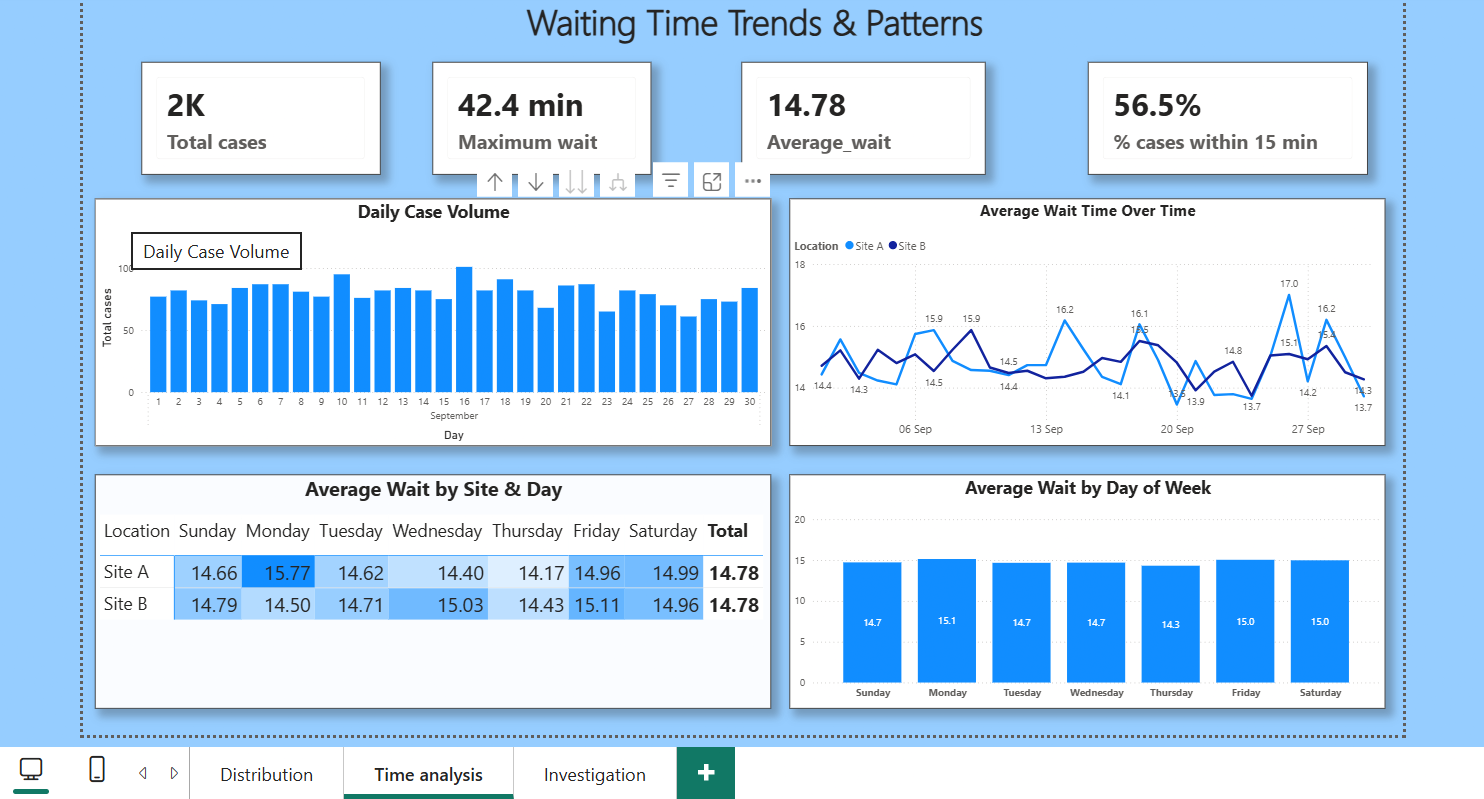

This screenshot's page, from the dashboard's own definition file:
{"tool":"powerbi","page":{"name":"Time analysis","canvas":[1600,900],"ordinal":1},"visuals":[{"type":"cardVisual","fields":{"Data":["_Measures.Daily cases"]},"box":[70.4,82.8,289.9,136.7],"z":0},{"type":"cardVisual","fields":{"Data":["_Measures.Max wait"]},"box":[424.5,82.8,265,136.7],"z":1},{"type":"cardVisual","fields":{"Data":["waits.mean_wait"]},"box":[799.3,82.8,296.1,136.7],"z":2},{"type":"cardVisual","fields":{"Data":["_Measures.% within 15 min"]},"box":[1219.6,82.8,339.6,136.7],"z":3},{"type":"lineChart","title":"Average Wait Time Over Time","fields":{"Category":["waits.Date"],"Series":["waits.Location"],"Y":["waits.mean_wait"]},"box":[857.2,248.5,722.6,300.2],"z":4},{"type":"clusteredColumnChart","title":"Daily Case Volume","fields":{"Category":["waits.Date.Variation.Date Hierarchy.Month","waits.Date.Variation.Date Hierarchy.Day"],"Y":["_Measures.Daily cases"]},"box":[14.5,248.5,820,300.2],"z":5},{"type":"clusteredColumnChart","title":"Average Wait by Day of Week","fields":{"Category":["waits.Day Name"],"Y":["waits.mean_wait"]},"box":[857.2,583.9,722.6,283.7],"z":6},{"type":"pivotTable","title":"Average Wait by Site & Day","fields":{"Columns":["waits.Day Name"],"Rows":["waits.Location"],"Values":["waits.mean_wait"]},"box":[14.5,583.9,820,283.7],"z":7},{"type":"textbox","box":[403.8,0,822,76.6],"z":8}]}

Visuals, with their boxes on the page's 1600x900 design canvas (x1, y1, x2, y2). These are canvas units, not pixel positions in the 1484x799 screenshot, which may show the page scaled, cropped or inside an application window:
cardVisual - _Measures.Daily cases: [x1=70, y1=83, x2=360, y2=220]
cardVisual - _Measures.Max wait: [x1=424, y1=83, x2=690, y2=220]
cardVisual - waits.mean_wait: [x1=799, y1=83, x2=1095, y2=220]
cardVisual - _Measures.% within 15 min: [x1=1220, y1=83, x2=1559, y2=220]
"Average Wait Time Over Time" lineChart: [x1=857, y1=248, x2=1580, y2=549]
"Daily Case Volume" clusteredColumnChart: [x1=14, y1=248, x2=834, y2=549]
"Average Wait by Day of Week" clusteredColumnChart: [x1=857, y1=584, x2=1580, y2=868]
"Average Wait by Site & Day" pivotTable: [x1=14, y1=584, x2=834, y2=868]
textbox: [x1=404, y1=0, x2=1226, y2=77]
